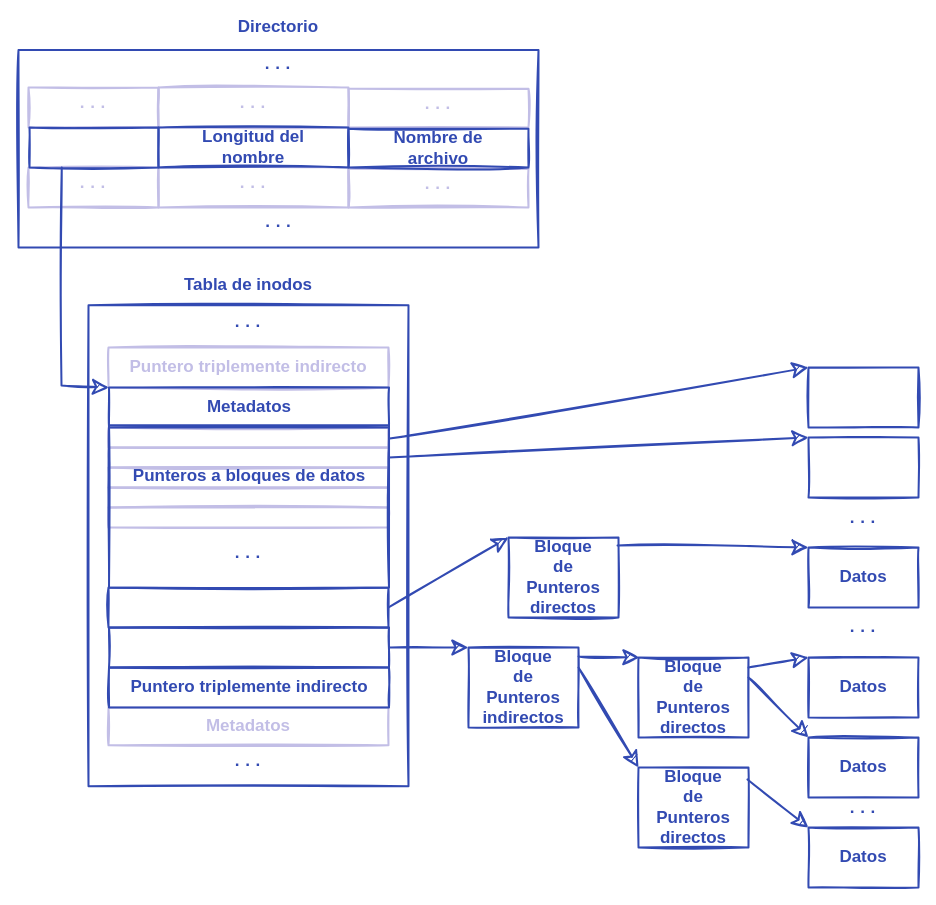
This 936x905 diagram has some shape labels left out. Here are the shapes that lost their labels. From the top down, the centre of each, then its label:
At [93,147]: "Nº de Inodo".
At [863,397]: "Datos Bloque 1".
At [863,467]: "Datos Bloque 2".
At [248,607]: "Puntero a bloque indirecto".
At [249,647]: "Puntero doblemente indirecto".
